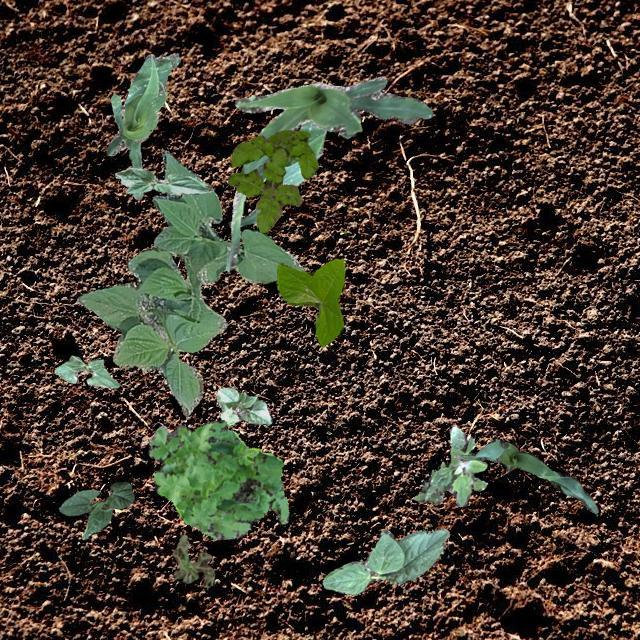crop: (75, 150, 304, 416), (224, 76, 432, 270), (105, 52, 178, 198), (452, 438, 596, 512), (238, 120, 326, 226), (322, 528, 448, 594), (276, 258, 344, 346), (58, 482, 132, 538), (114, 166, 212, 194), (216, 386, 270, 424), (54, 354, 118, 386)
weed: (148, 418, 286, 538), (226, 128, 318, 232), (414, 426, 486, 506), (172, 534, 214, 588)
